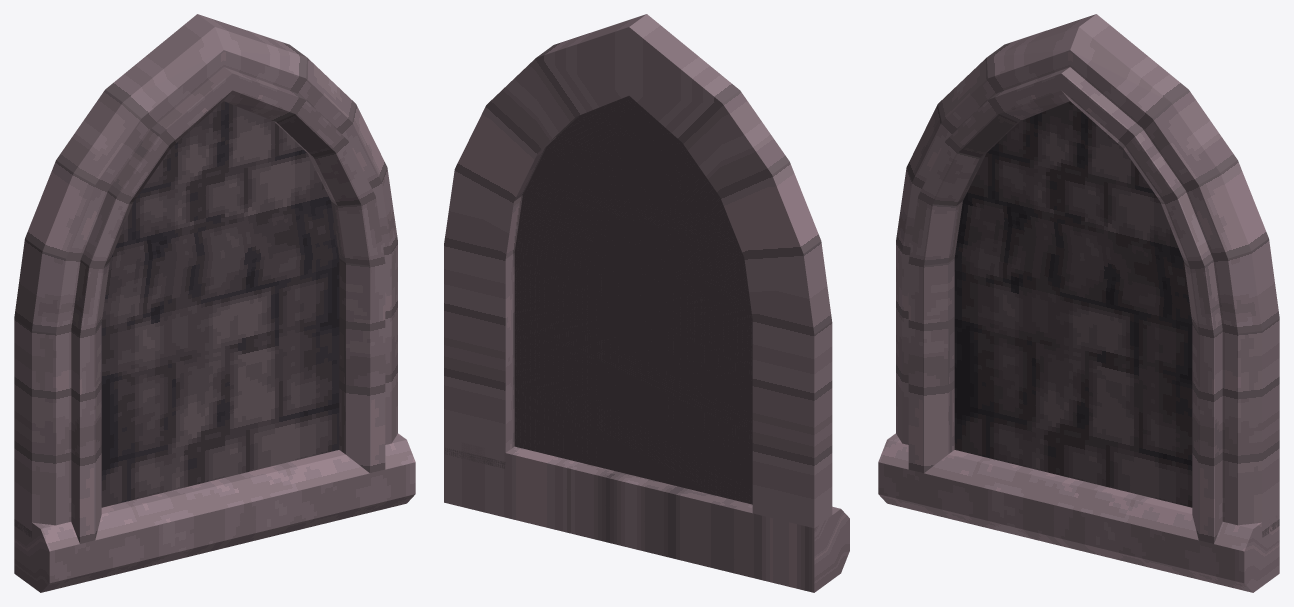
The model's file is wall_niche_corridor_a.glb.
The picture shows the model from 3 angles, left to right: view 1: azimuth 30°, elevation 25°; view 2: azimuth 150°, elevation 25°; view 3: azimuth 330°, elevation 25°; orthographic projection.
Visible parts, largest first — view 1: frame, back_plate, sill; view 2: back_plate, frame, sill; view 3: frame, back_plate, sill.
Part boxes in pixels (box(x1,y1,x2,y2)): frame: box(14, 14, 397, 543); back_plate: box(101, 101, 339, 507); sill: box(14, 433, 415, 592); back_plate: box(514, 96, 752, 504); frame: box(444, 14, 832, 528); sill: box(444, 438, 849, 592); frame: box(896, 14, 1279, 543); back_plate: box(954, 101, 1192, 507); sill: box(878, 433, 1279, 592).
Bounding box in the file's own units: 1.5 × 2.02 × 0.25.
Materials: 1 (1 with a texture image).
